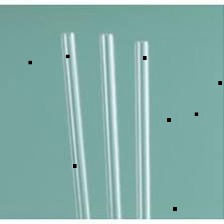drinking_straw: (54, 27, 93, 219), (127, 34, 159, 218), (96, 28, 125, 220)
